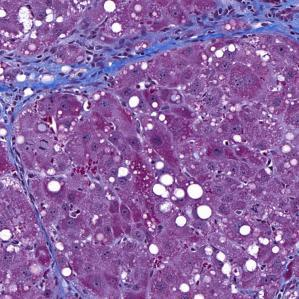fibrosis: (6, 38, 144, 103), (157, 0, 299, 56)
